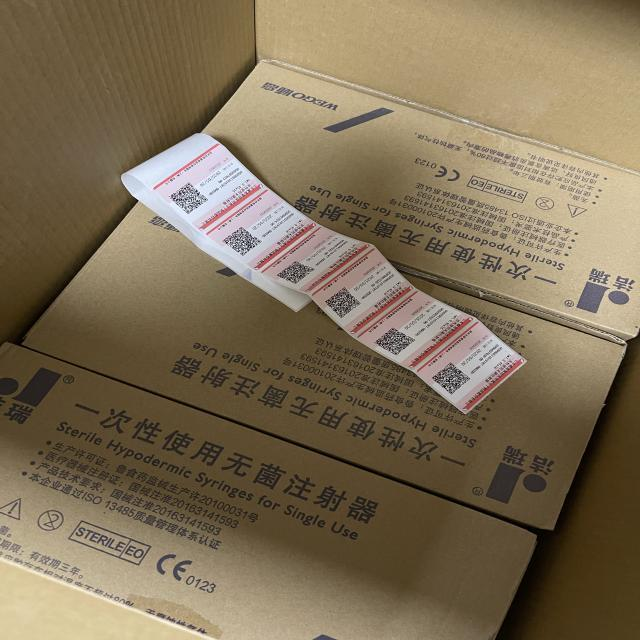box: (26, 200, 630, 532), (3, 339, 537, 640), (185, 60, 640, 344)
